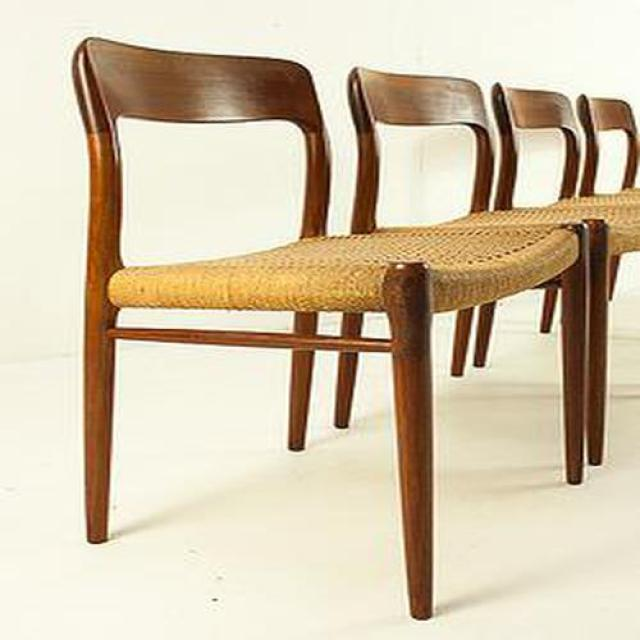chair: (72, 38, 588, 622)
